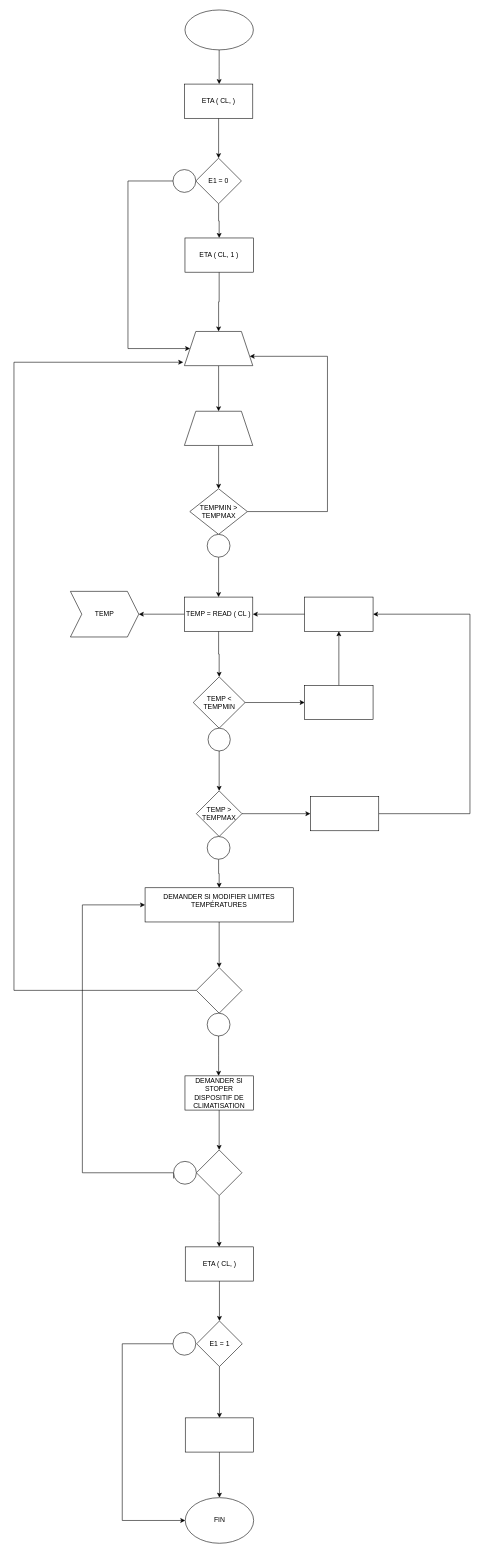
Some shapes in this 485 by 1553 pixel diagram are drawn without their labels. Each missing label, with the centre of its shape:
ATTENDRE 5 MIN: the point at 338,614
Début: the point at 218,29
ETA ( CL, 0 ): the point at 219,1434
ON ( CL, 0 ): the point at 344,813
ON ( CL, 1 ): the point at 338,702
SAISIR TEMPMAX: the point at 218,428
SAISIR TEMPMIN: the point at 218,348
